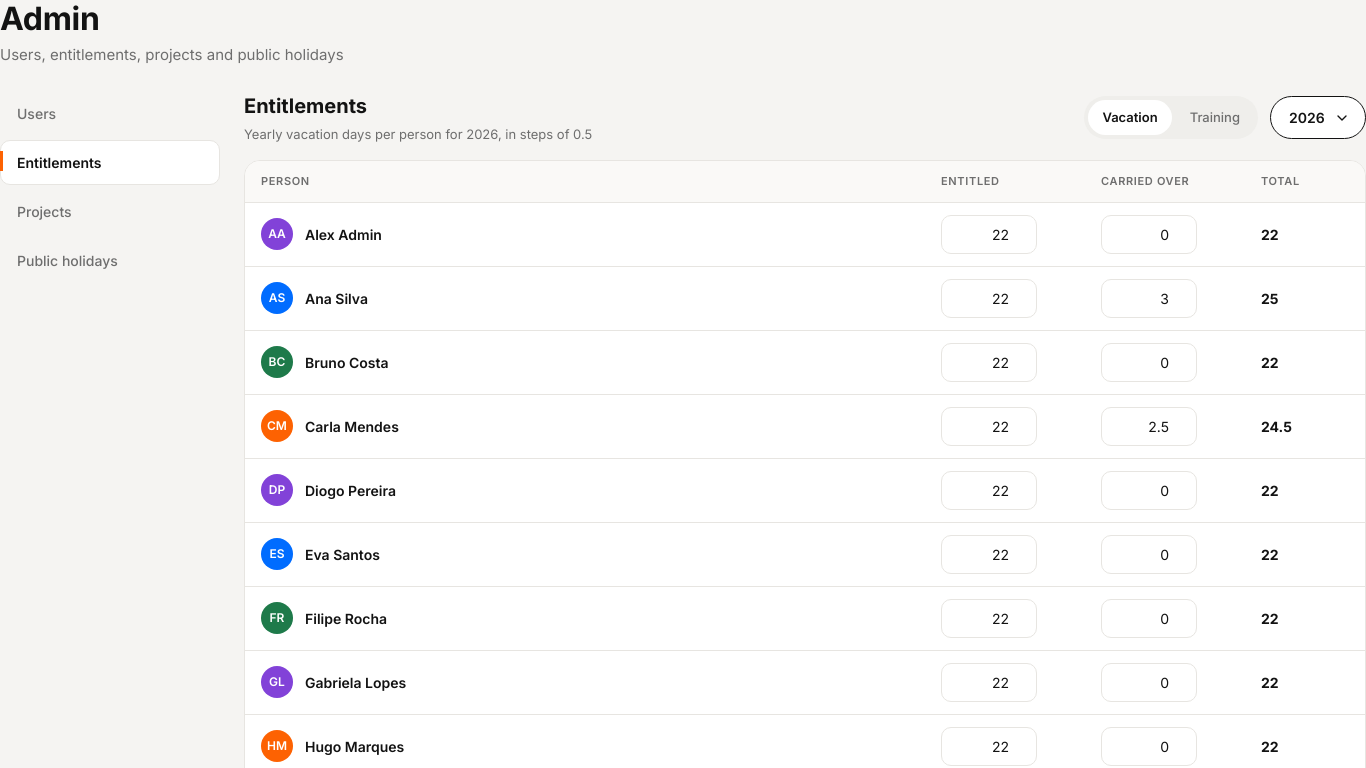
Scenario: Admin – Entitlements › asks before a year switch throws unsaved changes away
expect the heading "Entitlements" is shown: met, box x1=244 y1=94 x2=367 y2=118
Replace the text in the number field named "Entitled days, Ana Silva" with "30" at (989, 298), box x1=941 y1=279 x2=1037 y2=318
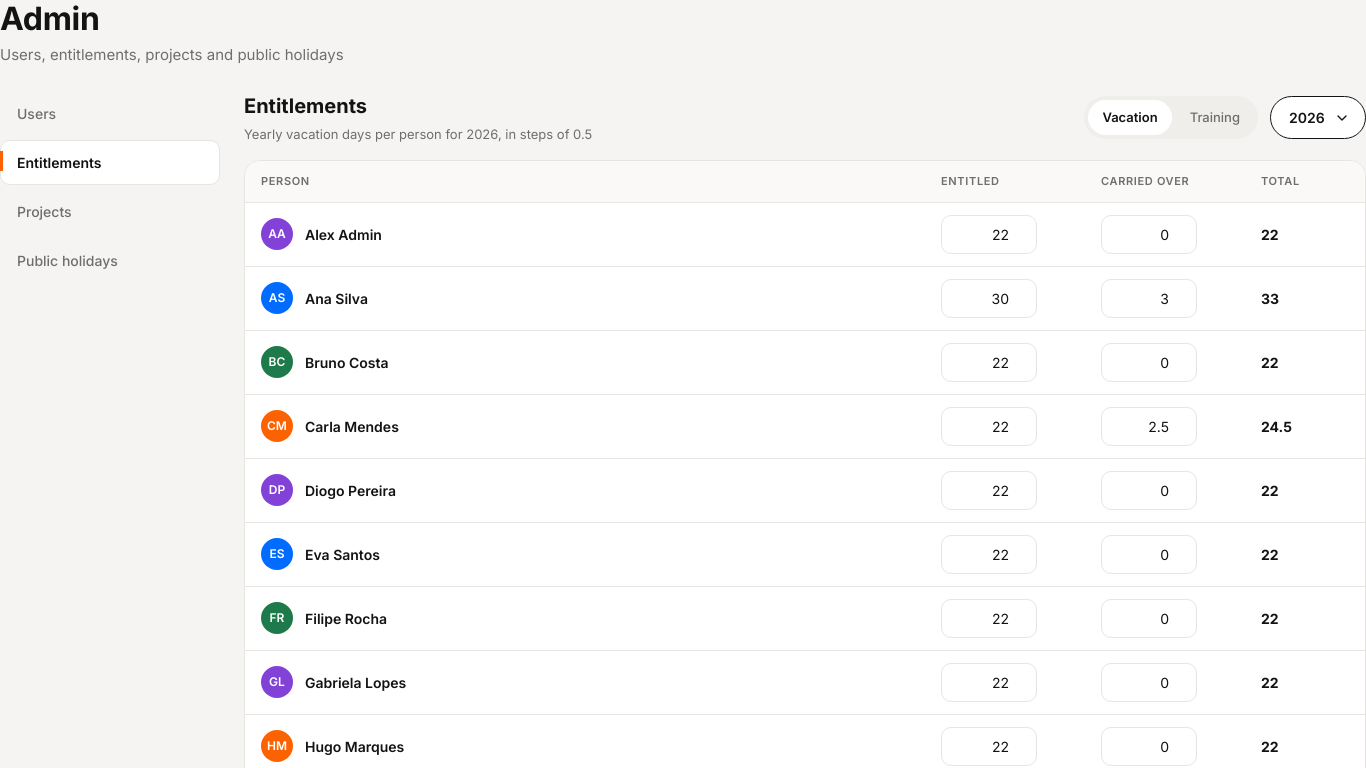
Select "2027" in the dropdown named "Year" at (1318, 118), box x1=1270 y1=96 x2=1365 y2=139
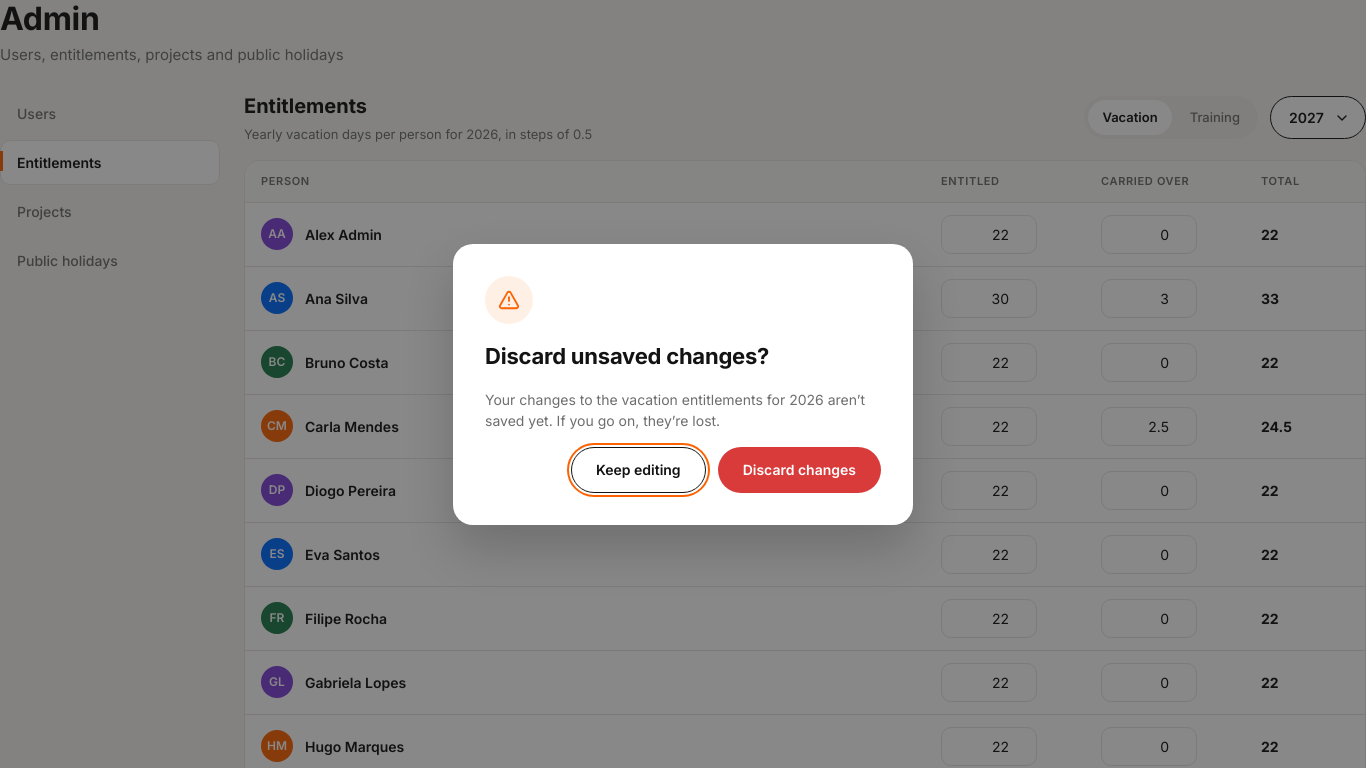
expect the heading "Discard unsaved changes?" is shown: met, box x1=485 y1=340 x2=769 y2=372
Click the button "Keep editing" at (638, 470), box x1=571 y1=446 x2=706 y2=492
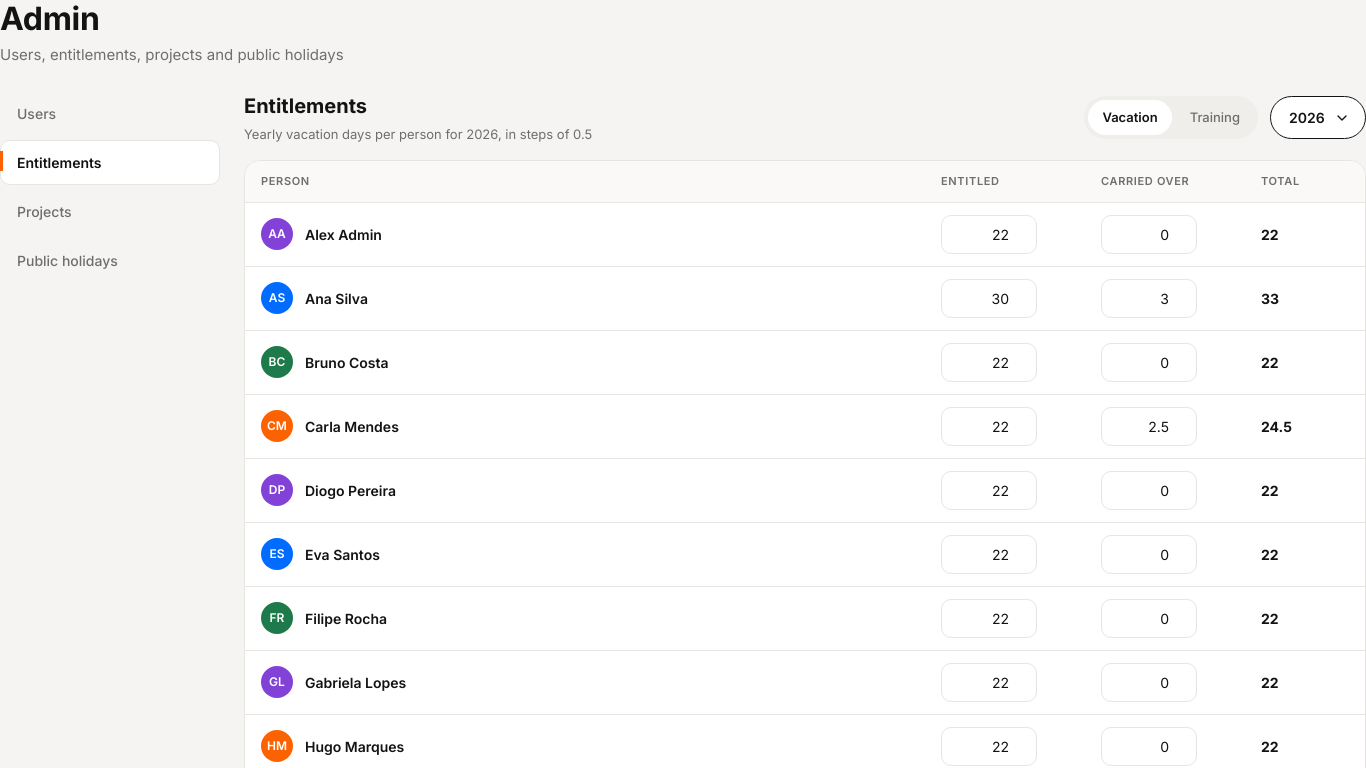
expect the dropdown named "Year" shows "2026": met
Select "2027" in the dropdown named "Year" at (1318, 118), box x1=1270 y1=96 x2=1365 y2=139
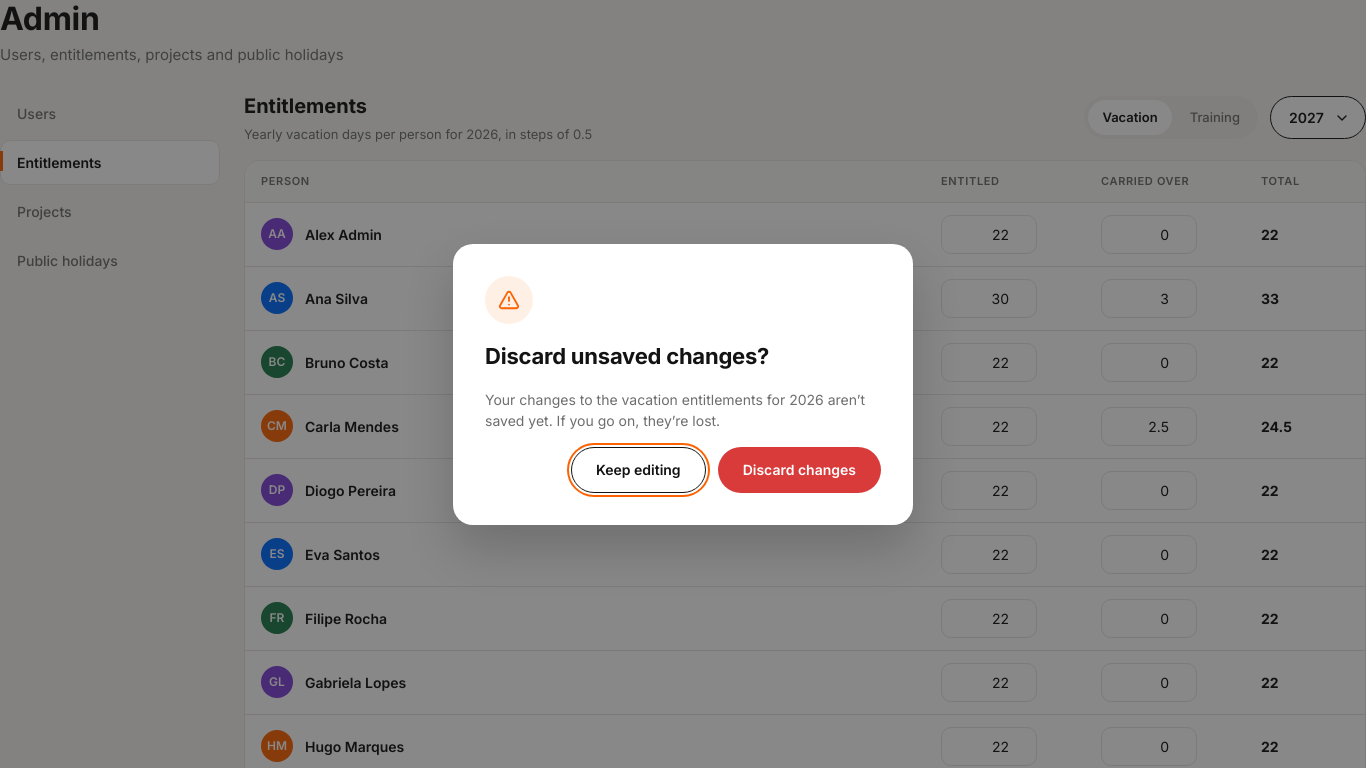
Click the button "Discard changes" at (799, 470), box x1=718 y1=446 x2=881 y2=492
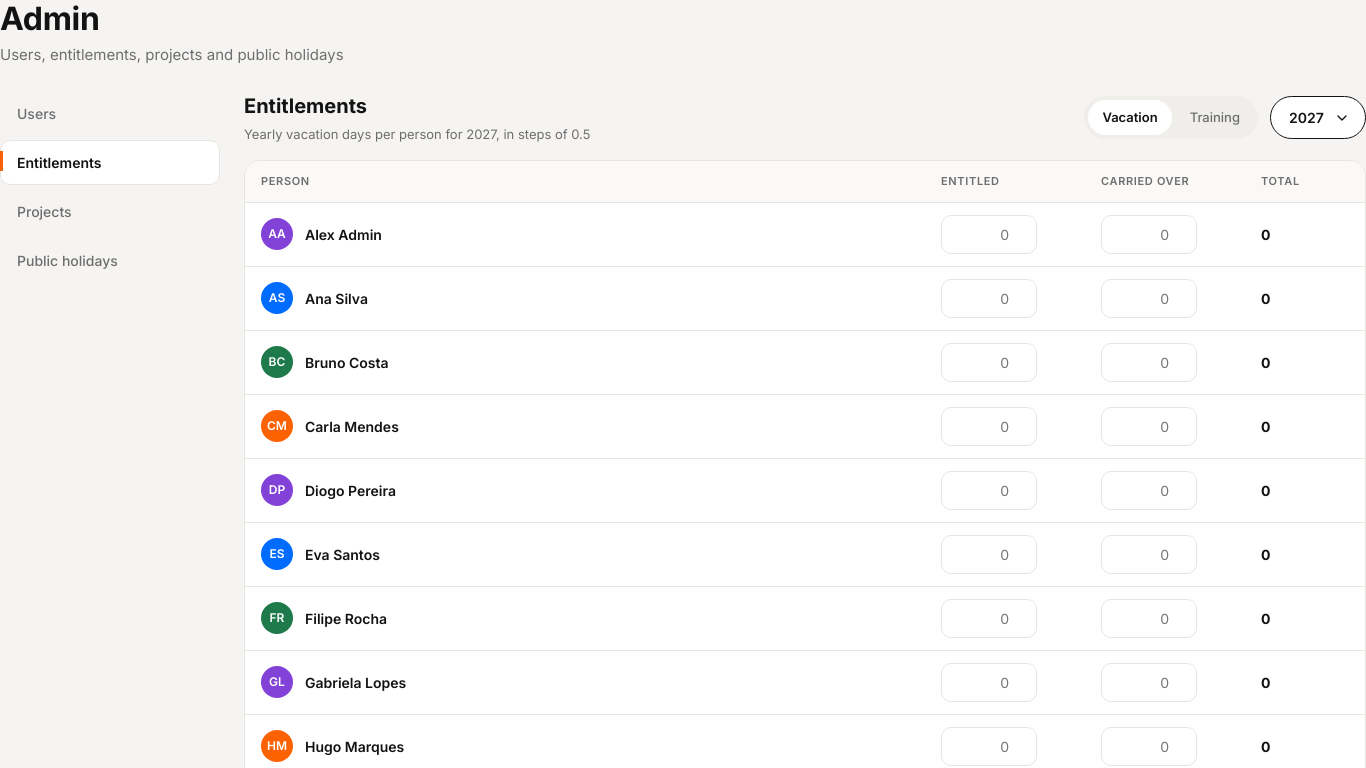
expect the text "for 2027" is shown: met, box x1=244 y1=126 x2=590 y2=142
